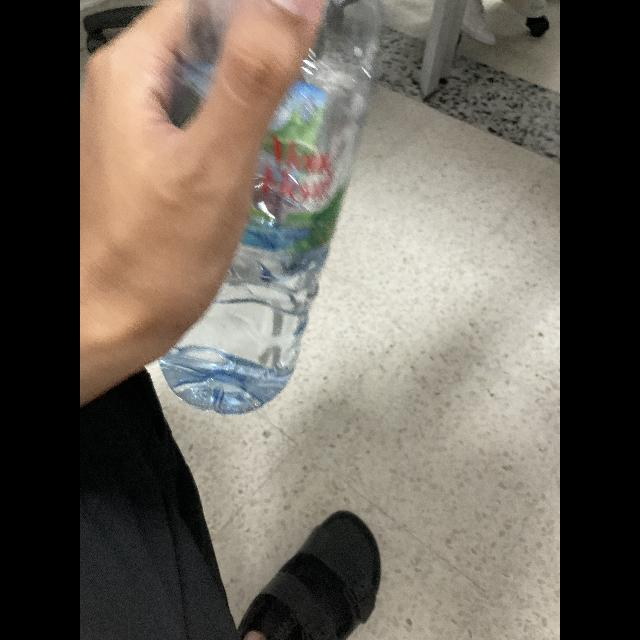plastic_bottle: (154, 1, 402, 423)
